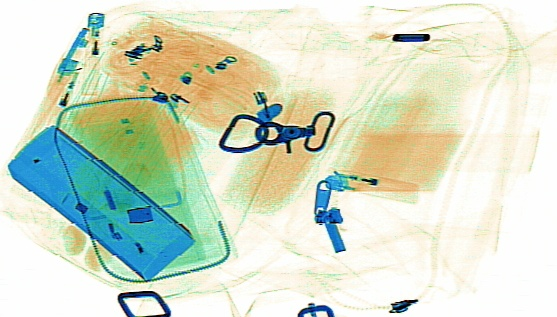lighter: (34, 56, 81, 138), (323, 169, 421, 204), (77, 9, 104, 97)
